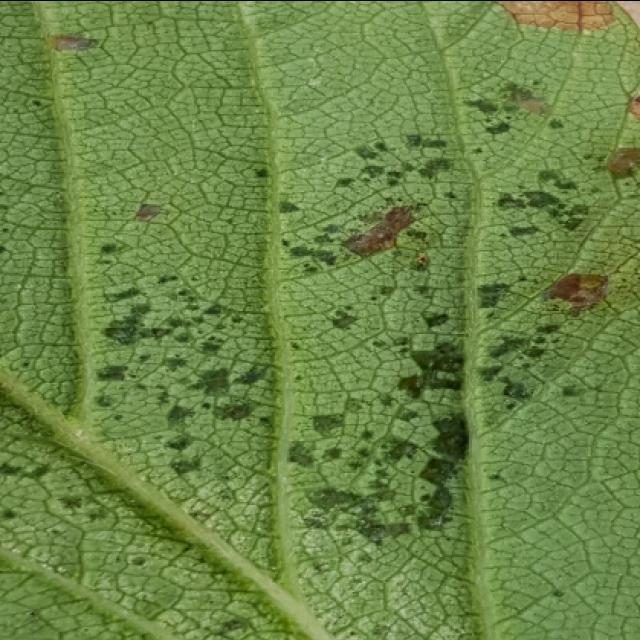Angular Leafspot: (0, 0, 638, 638)
